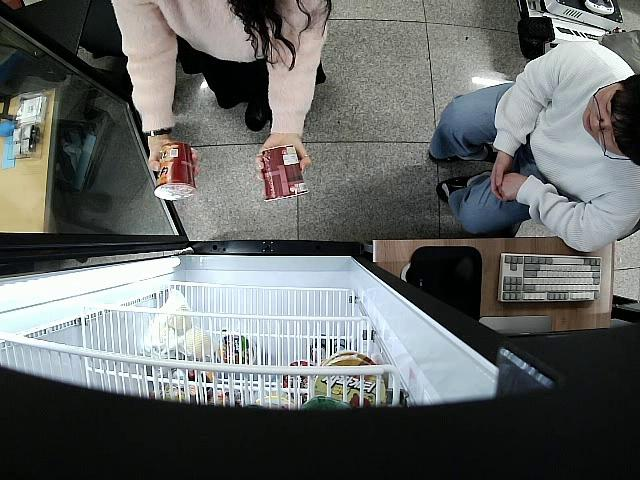00_hand: (255, 137, 313, 182), (148, 141, 201, 185)
06_nuguri_S: (261, 144, 309, 205), (154, 143, 198, 203)
